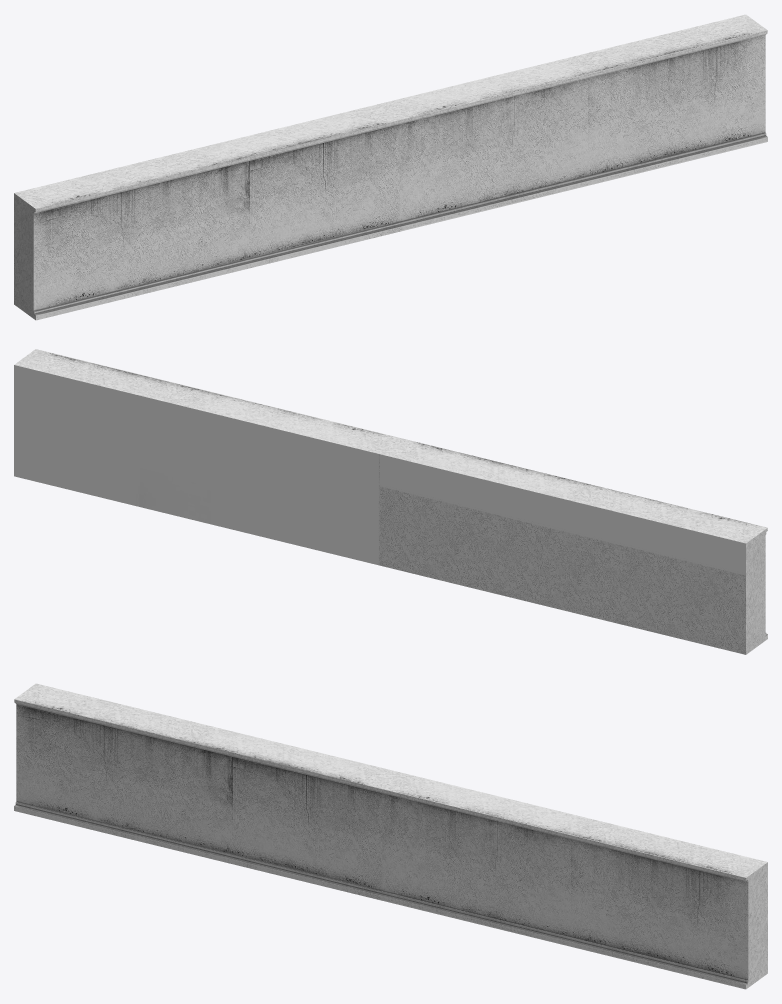
File: roof_5.glb
3 views of the same model, one above another, from view 1: azimuth 30°, elevation 25°; view 2: azimuth 150°, elevation 25°; view 3: azimuth 330°, elevation 25° (orthographic).
Visible parts, largest first — view 1: roof_5; view 2: roof_5; view 3: roof_5.
Boxes of the visible parts, bbox=[...] form: roof_5: bbox=[14, 14, 767, 320]; roof_5: bbox=[14, 349, 767, 654]; roof_5: bbox=[14, 683, 767, 989].
Size of the model in its own units: 6.5 by 0.9453 by 0.3374.
Materials: 1 (1 with a texture image).
